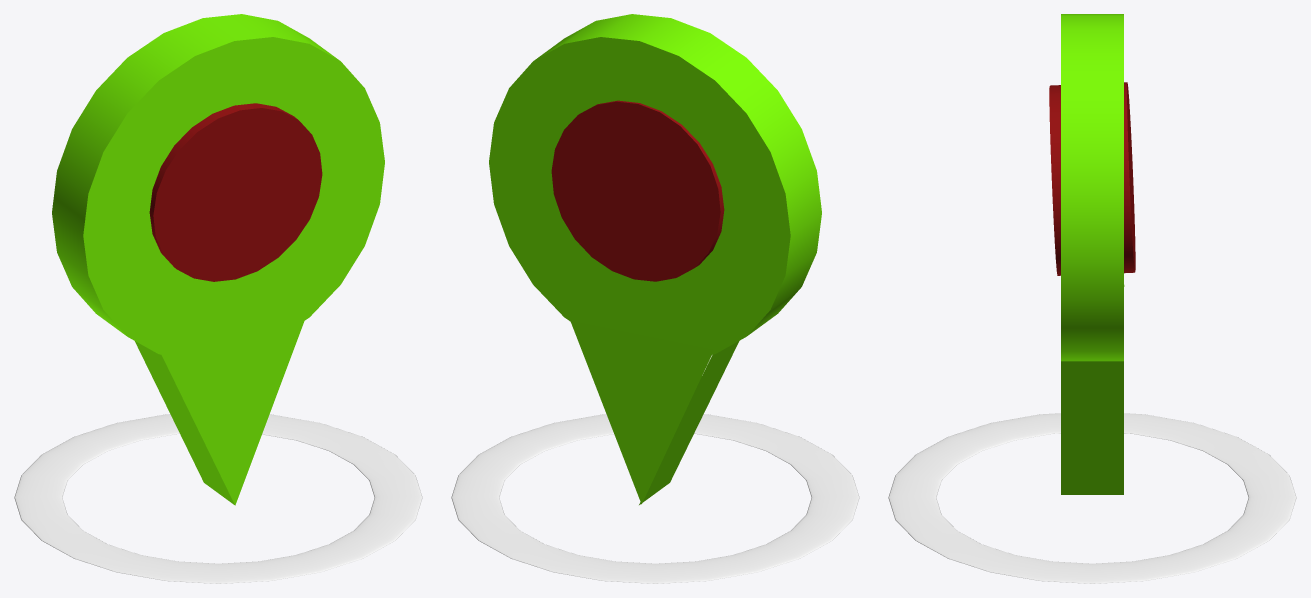
Rendered from Pin_04.gltf.
3 renders of one model, left to right at view 1: azimuth 30°, elevation 25°; view 2: azimuth 150°, elevation 25°; view 3: azimuth 270°, elevation 25°, orthographic.
Visible parts, largest first — view 1: Cylinder, Cylinder1, Torus, Box; view 2: Cylinder, Cylinder1, Torus, Box; view 3: Cylinder, Torus, Box, Cylinder1.
Part boxes in pixels (x1,y1,x2,y2): Cylinder: [52, 14, 384, 359]; Cylinder1: [149, 103, 322, 281]; Torus: [14, 414, 422, 583]; Box: [135, 321, 304, 505]; Cylinder: [489, 14, 821, 354]; Cylinder1: [551, 100, 724, 281]; Torus: [451, 414, 859, 583]; Box: [570, 320, 739, 504]; Cylinder: [1061, 14, 1123, 361]; Torus: [888, 413, 1296, 583]; Box: [1061, 285, 1124, 494]; Cylinder1: [1049, 82, 1135, 275].
Size of the model in its own units: 1.17 by 1.49 by 1.17.
